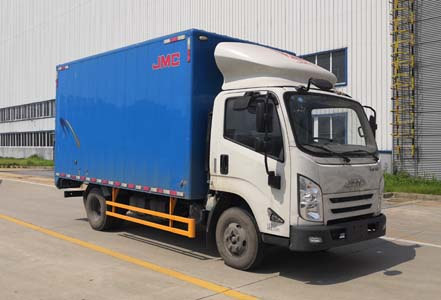smalltruck: (32, 37, 383, 278)
